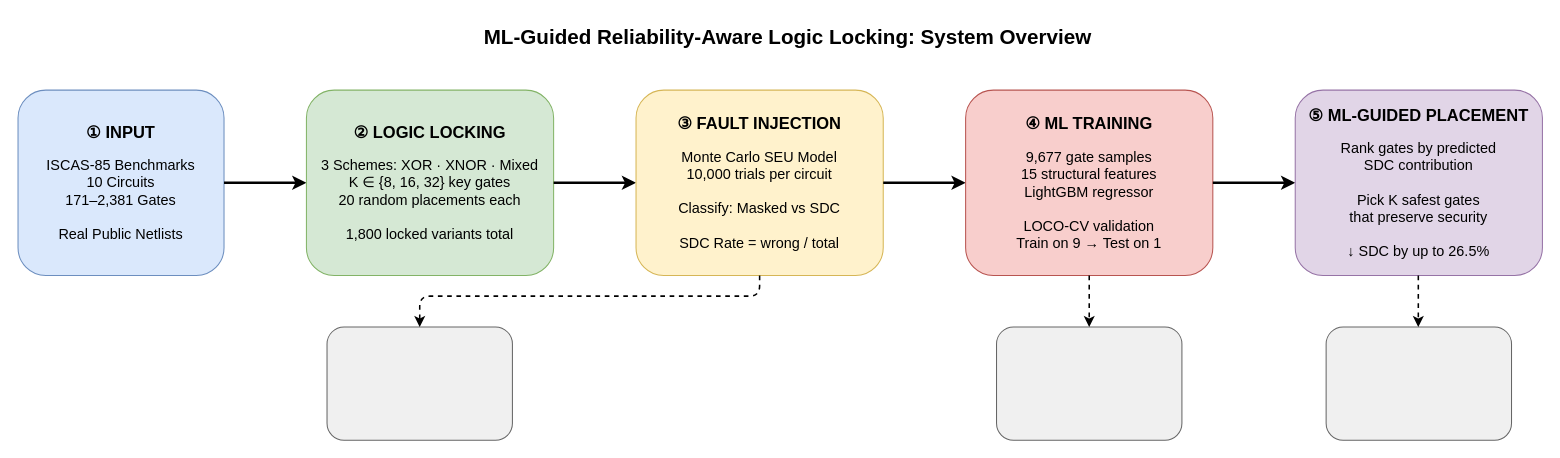
Some shapes in this 1560 by 458 pixel diagram are drawn without their labels. Each missing label, with the box of its shape:
Key Finding SDC gap up to 23.2 pp across identical security placements: (326, 326, 512, 440)
Key Result ML placement reduces SDC 26.5% max 11.1% avg: (1325, 326, 1512, 440)
Top Features Signal Probability Output Reach Cone Size Topological Depth: (995, 326, 1182, 440)
